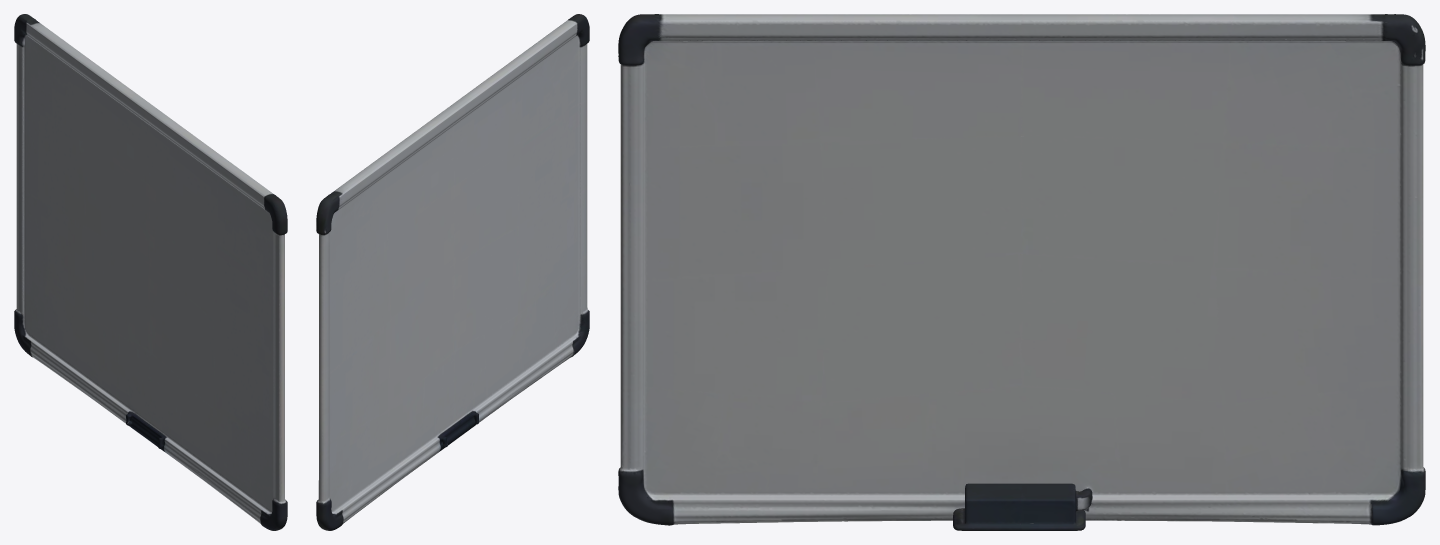
The model's file is whiteboard.glb.
3 views of the same model, side by side, from view 1: azimuth 30°, elevation 25°; view 2: azimuth 150°, elevation 25°; view 3: azimuth 270°, elevation 25° (orthographic). The views are drawn at different scales.
Parts seen in each view (by area): view 1: tripo_node_070c66b6-f4f0-4d0e-91b3-fb79b3656007; view 2: tripo_node_070c66b6-f4f0-4d0e-91b3-fb79b3656007; view 3: tripo_node_070c66b6-f4f0-4d0e-91b3-fb79b3656007.
Boxes of the visible parts, x1=… form: tripo_node_070c66b6-f4f0-4d0e-91b3-fb79b3656007: x1=14, y1=14, x2=287, y2=530; tripo_node_070c66b6-f4f0-4d0e-91b3-fb79b3656007: x1=316, y1=14, x2=589, y2=530; tripo_node_070c66b6-f4f0-4d0e-91b3-fb79b3656007: x1=618, y1=14, x2=1425, y2=530.
Bounding box in the file's own units: 0.0895 × 0.6947 × 1.
1 material, 1 textured.
